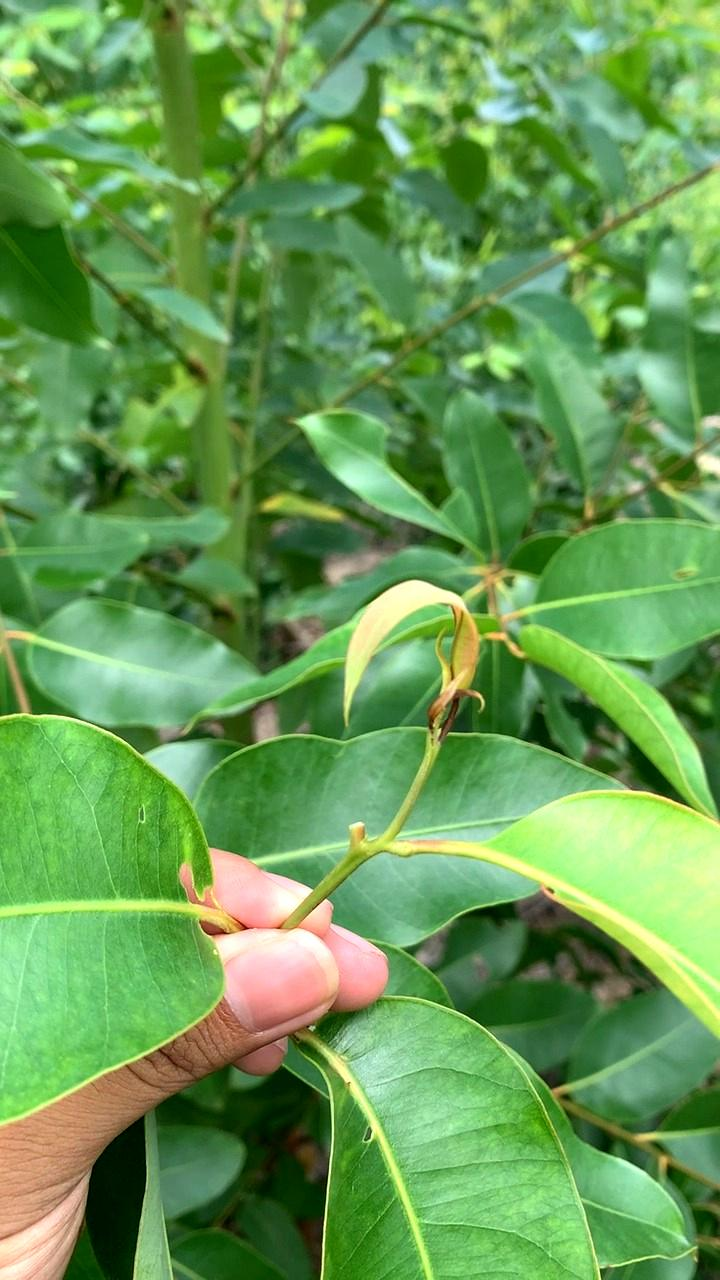Helopeltis-Withered Sprout: (343, 568, 489, 735)
